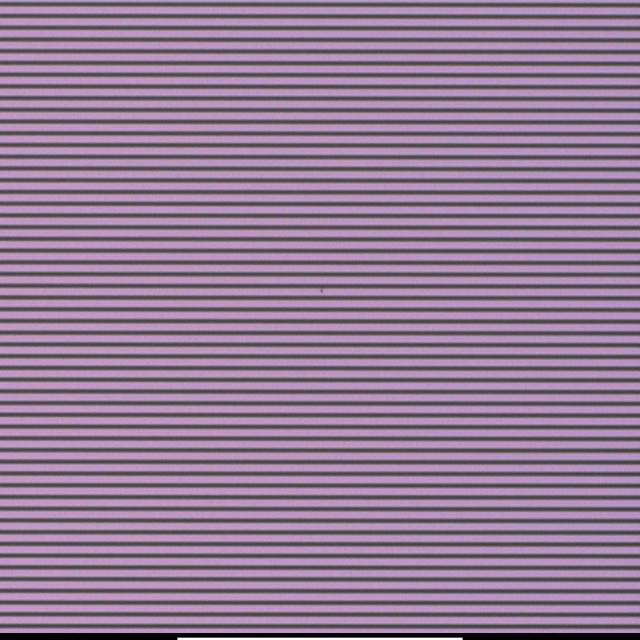nonvisual: (318, 284, 328, 296)
